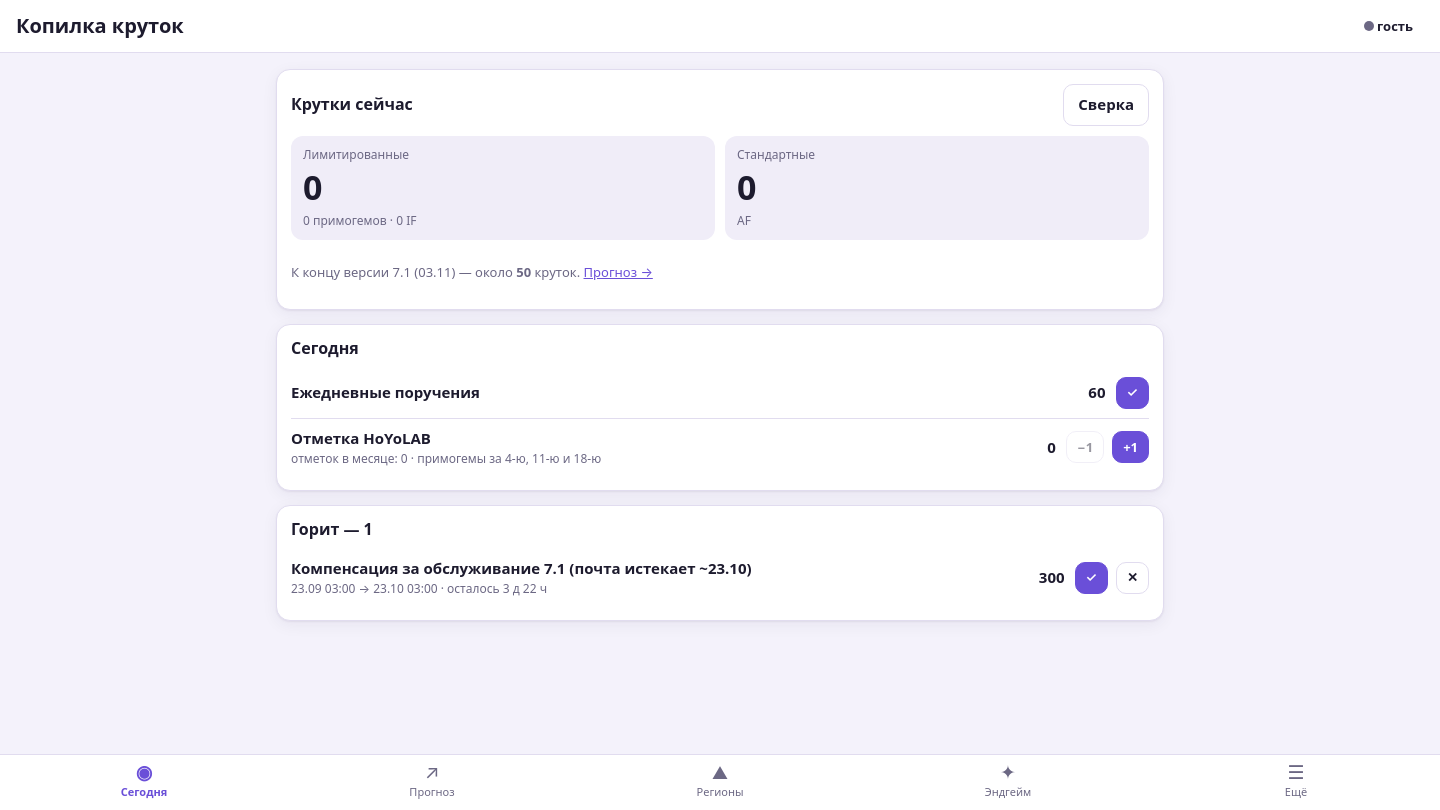
Test: M4: «Сегодня» › HoYoLAB +1: на 4-й отметке +20 примогемов (12.4)
Click the button named "HoYoLAB +1" at (1131, 447), box [1112,431,1149,463]
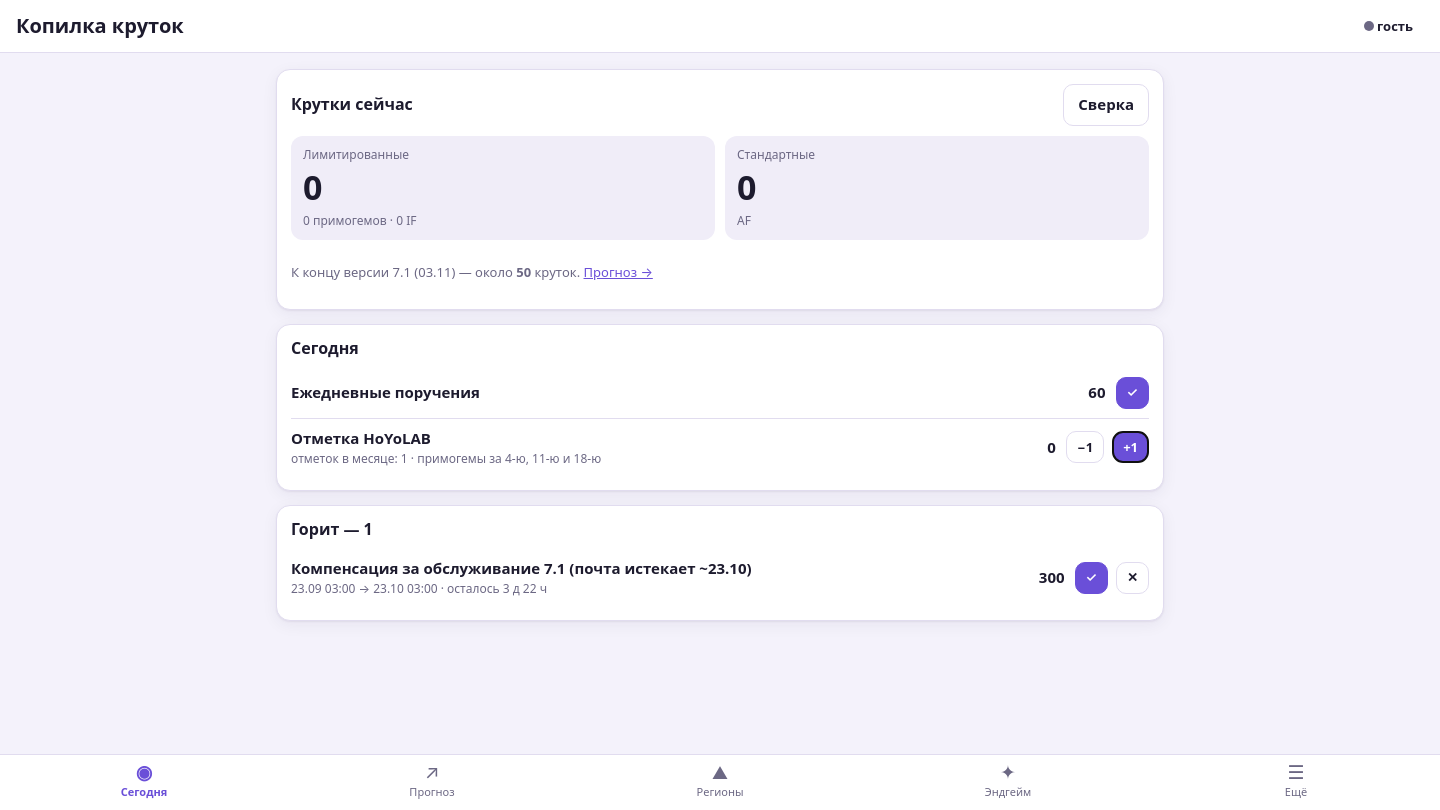
Click the button named "HoYoLAB +1" at (1131, 447), box [1112,431,1149,463]
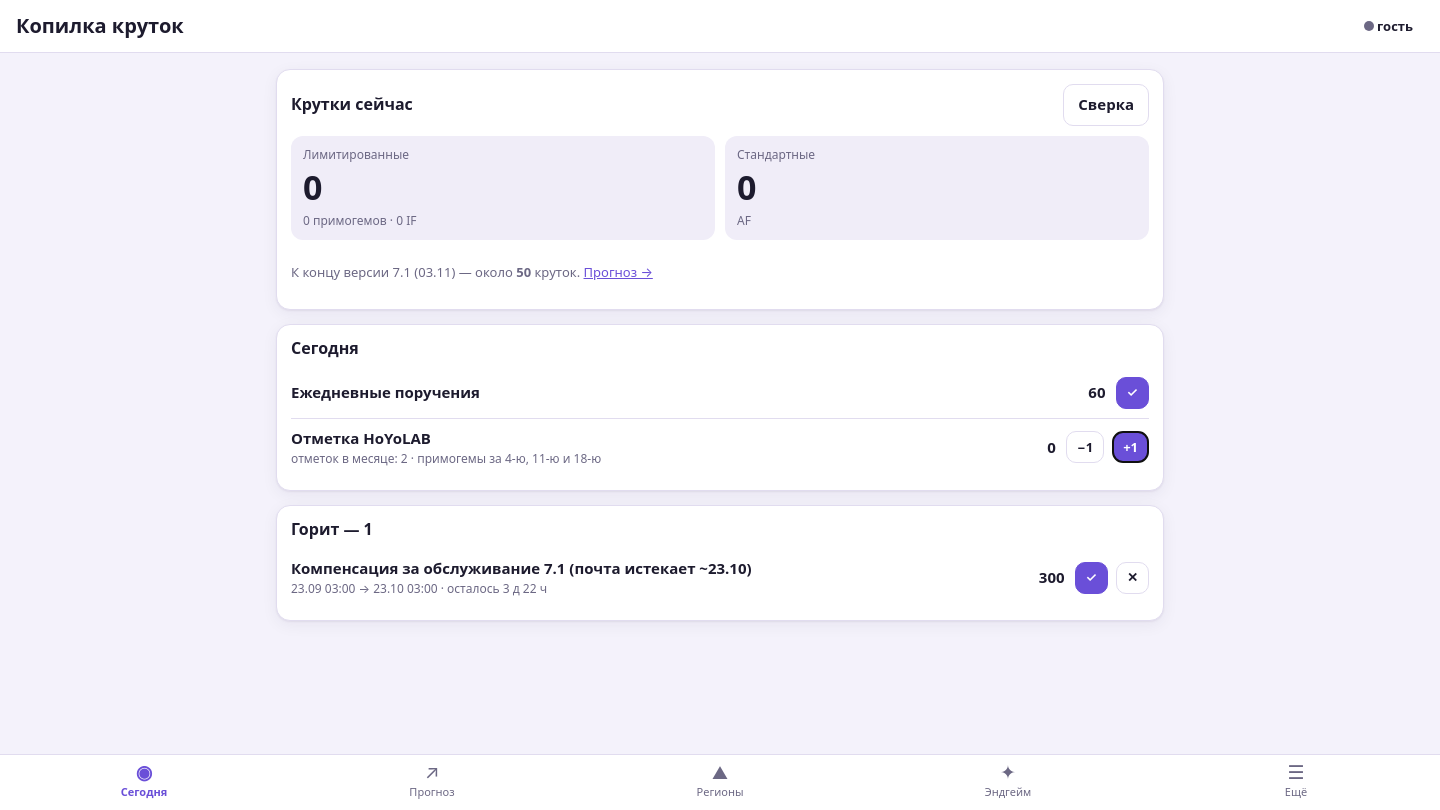
Click the button named "HoYoLAB +1" at (1131, 447), box [1112,431,1149,463]
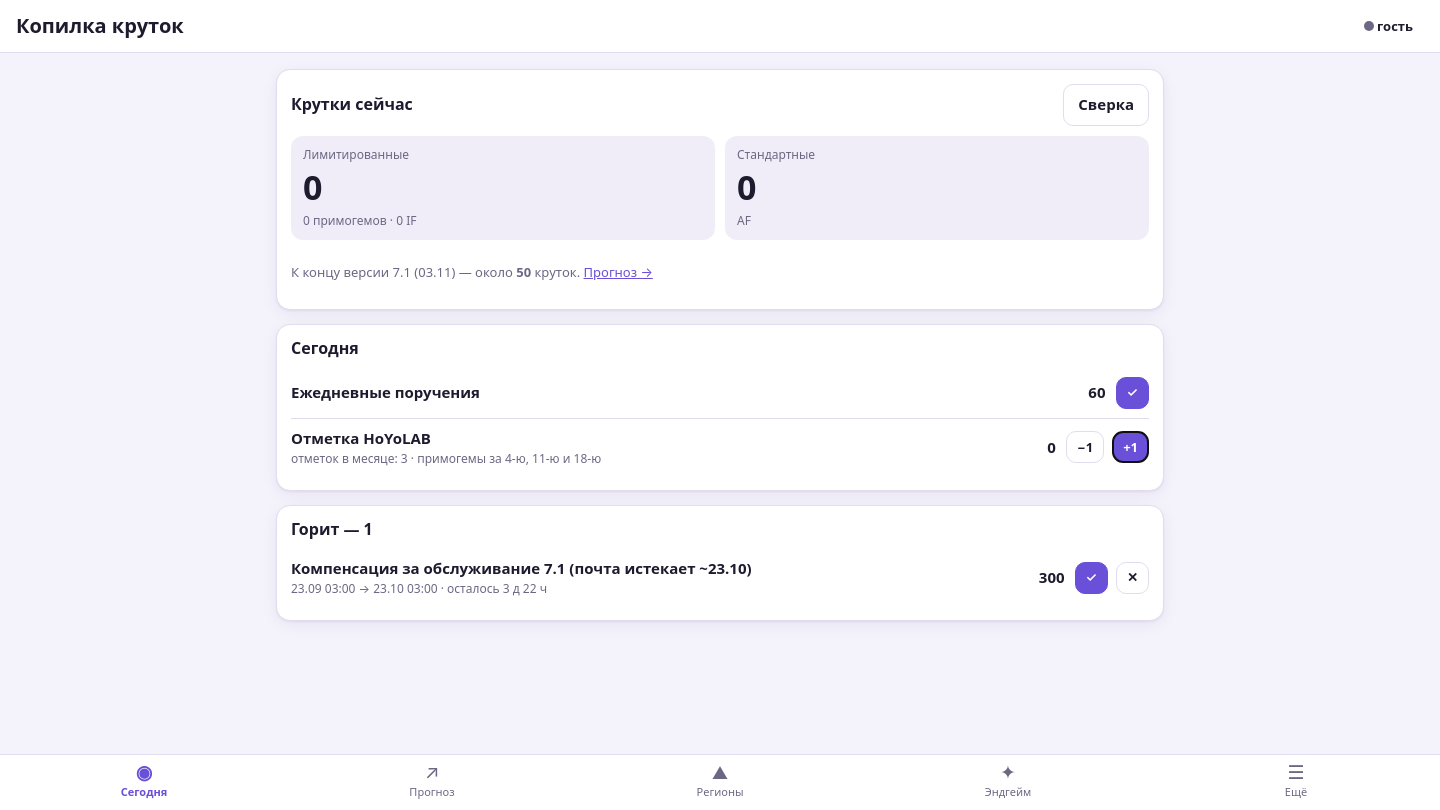
Click the button named "HoYoLAB +1" at (1131, 447), box [1112,431,1149,463]
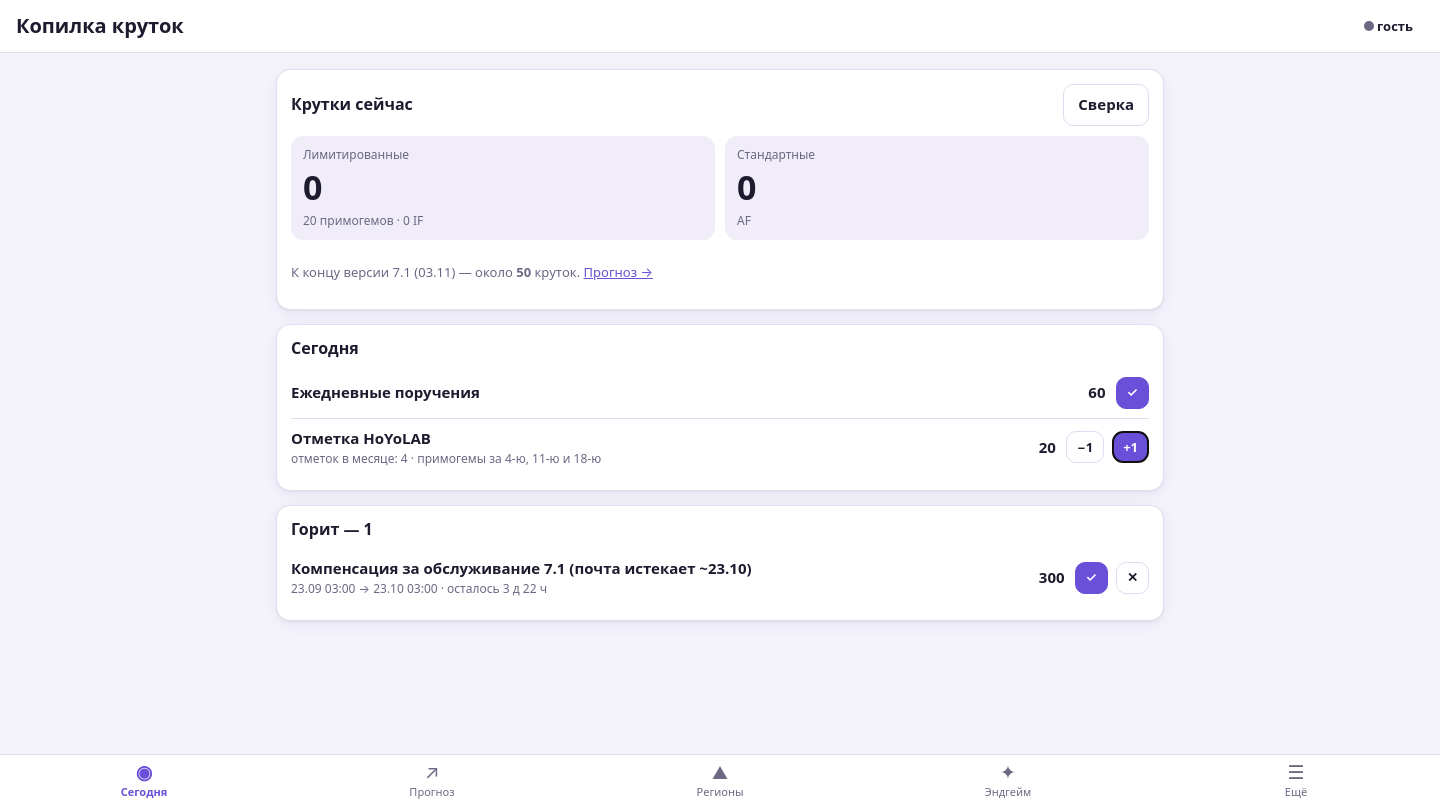
Now the text with test id "hoyolab-count" reads "4", box [401,450,408,467]
